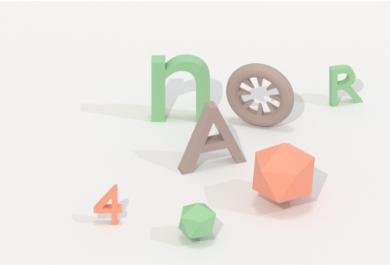0-TronCanh: (249, 140, 320, 208), (175, 200, 219, 245)
0-TronLo: (223, 58, 299, 130)
4: (89, 180, 128, 230)
A: (174, 100, 250, 178)
R: (325, 61, 367, 113)
n: (148, 50, 213, 127)
